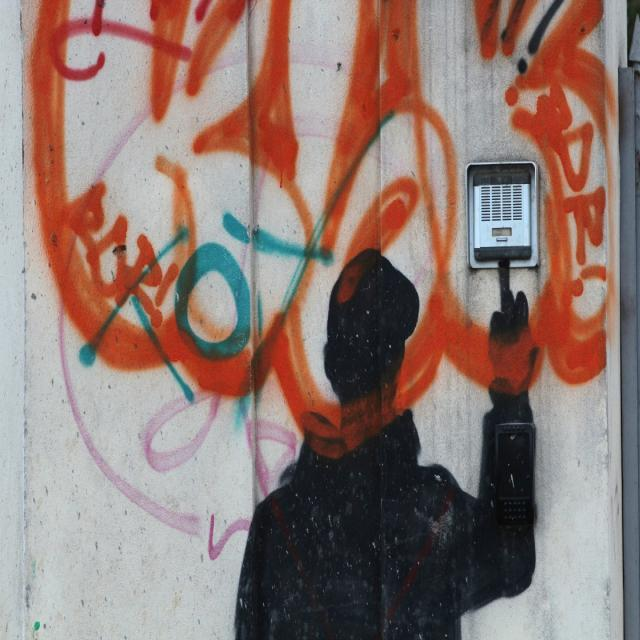-: (26, 0, 618, 456), (58, 55, 442, 552), (233, 250, 537, 640)
